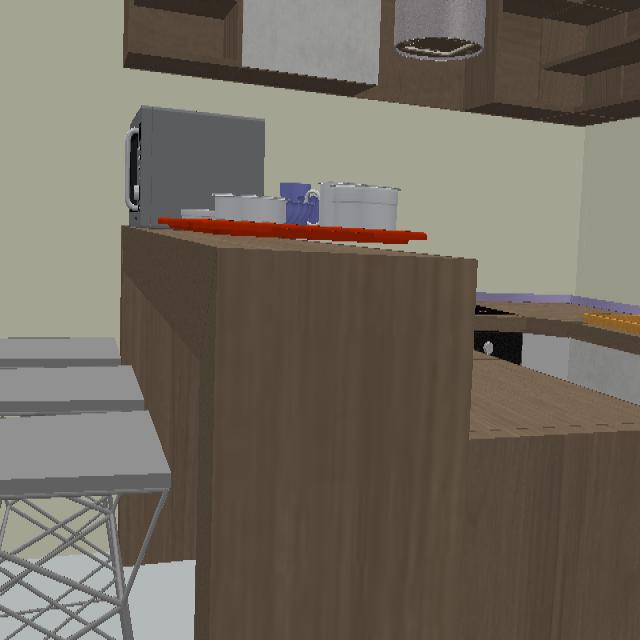cabinet: (124, 0, 640, 126)
chair: (0, 338, 171, 638)
microwave: (125, 107, 265, 228)
oven: (474, 332, 521, 364)
table: (120, 227, 476, 638)
